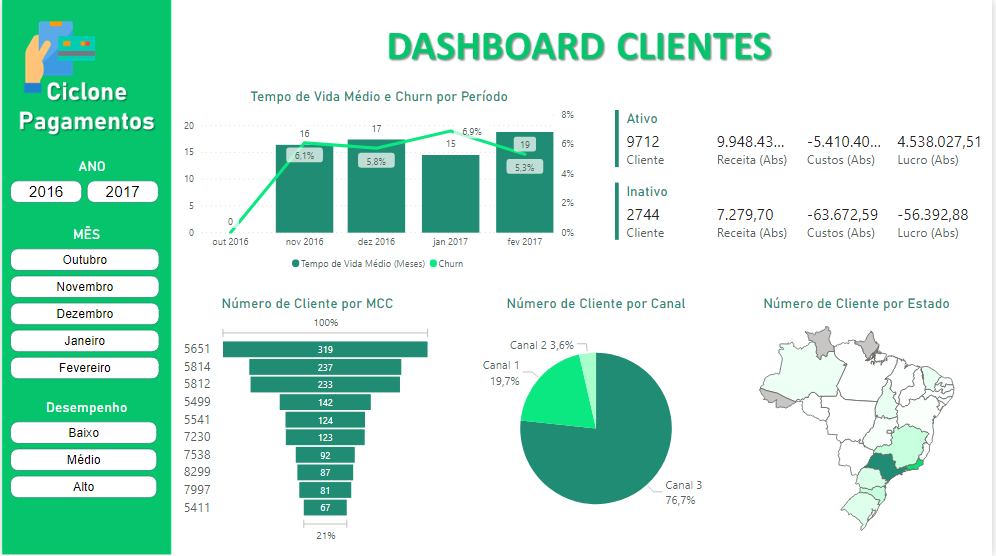

The dashboard page shown, as its layout file describes it:
{"tool":"powerbi","page":{"name":"Clientes","canvas":[1280,720],"ordinal":2},"visuals":[{"type":"pieChart","title":"Número de Cliente por Canal","fields":{"Category":["Clientes.Canal"],"Y":["Count(Clientes.Número do Cliente)"]},"box":[602.6,382.3,331.1,324.2],"z":0},{"type":"shapeMap","title":"Número de Cliente por Estado","fields":{"Category":["DTB_2019_Municipio.Nome_UF"],"Value":["Count(Clientes.Número do Cliente)"]},"box":[939.2,382.3,329.7,324.2],"z":1000},{"type":"ChicletSlicer1448559807354","title":"ANO","fields":{"Category":["Clientes.Data Apuração.Variation.Date Hierarchy.Year"]},"box":[2.8,205.1,227.1,88.1],"z":2000},{"type":"ChicletSlicer1448559807354","title":"MÊS","fields":{"Category":["Clientes.Mês Apuração"]},"box":[2.8,293.2,213.3,224.3],"z":3000},{"type":"funnel","title":"Número de Cliente por MCC","fields":{"Category":["Clientes.MCC","mcc_codes.edited_description"],"Y":["Count(Clientes.Número do Cliente)"]},"box":[230,382.3,329.7,324.2],"z":4000},{"type":"lineClusteredColumnComboChart","title":"Tempo de Vida Médio e Churn por Período","fields":{"Category":["Clientes.Data Apuração"],"Y":["Avg(Clientes.Tempo de Vida Médio (Meses))"],"Y2":["Avg(Clientes.Churn)"]},"box":[229.8,115.6,514.8,245],"z":5000},{"type":"multiRowCard","fields":{"Values":["Clientes.Número do Cliente","Clientes.Status do Cliente","Sum(Clientes.Total (Receita))","Sum(Clientes.Total (Custos))","Sum(Clientes.Lucro )"]},"box":[786.8,138.5,491.8,198.1],"z":6000},{"type":"ChicletSlicer1448559807354","title":"Desempenho","fields":{"Category":["Clientes.Cluster"]},"box":[2.8,517.5,213.3,150],"z":7000}]}

Visuals, with their boxes in screenshot pixels (x1, y1, x2, y2), scaled from the page's 1280x720 canvas onto the 996x556 screenshot:
"Número de Cliente por Canal" pieChart: (x1=469, y1=295, x2=727, y2=546)
"Número de Cliente por Estado" shapeMap: (x1=731, y1=295, x2=987, y2=546)
"ANO" ChicletSlicer1448559807354: (x1=2, y1=158, x2=179, y2=226)
"MÊS" ChicletSlicer1448559807354: (x1=2, y1=226, x2=168, y2=400)
"Número de Cliente por MCC" funnel: (x1=179, y1=295, x2=436, y2=546)
"Tempo de Vida Médio e Churn por Período" lineClusteredColumnComboChart: (x1=179, y1=89, x2=579, y2=278)
multiRowCard - Clientes.Número do Cliente x Clientes.Status do Cliente: (x1=612, y1=107, x2=995, y2=260)
"Desempenho" ChicletSlicer1448559807354: (x1=2, y1=400, x2=168, y2=515)
